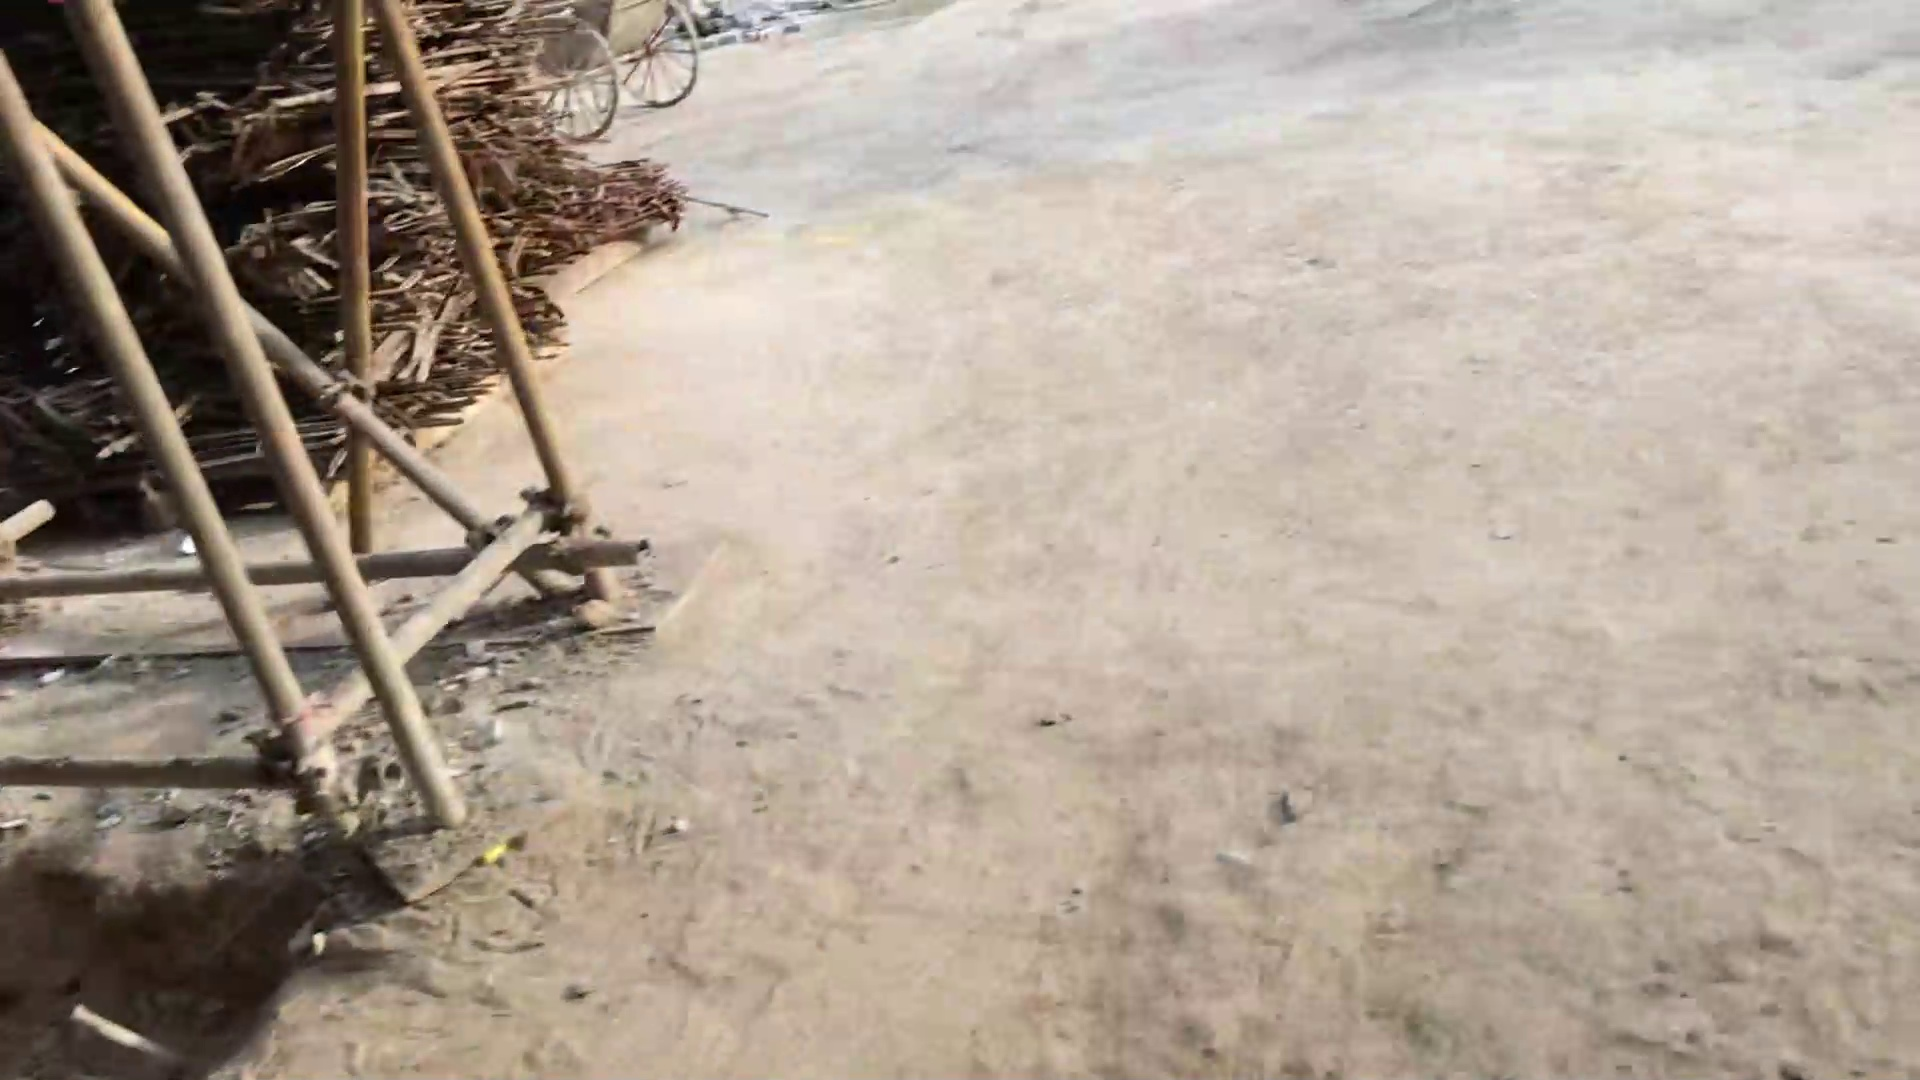handcart: (533, 1, 704, 146)
